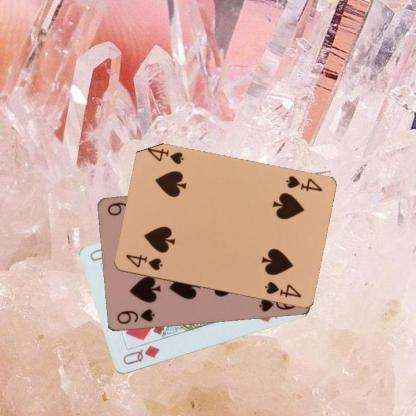4s: (122, 252, 164, 272), (282, 173, 324, 193)
9s: (114, 306, 156, 326)
Qd: (120, 343, 161, 367)
